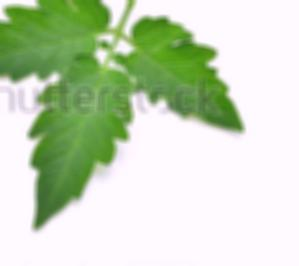Tomato leaf: (21, 43, 147, 241), (123, 0, 267, 147), (0, 0, 120, 97)
